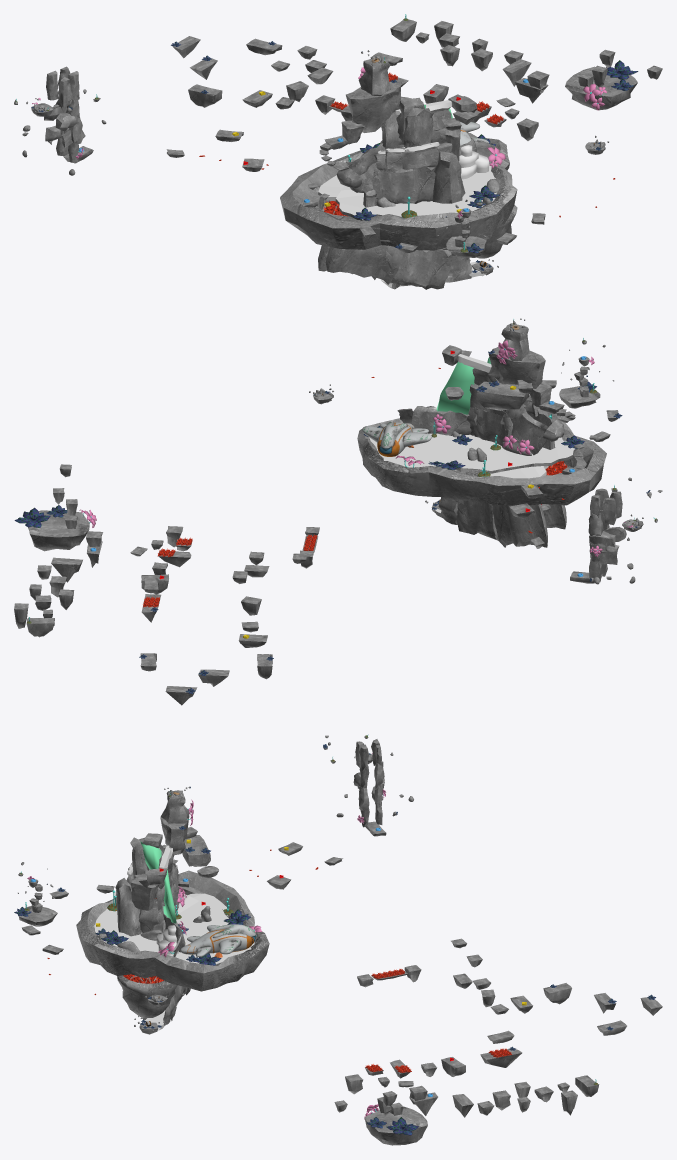
Rendered from FULLSCENEOMEGALUL.fbx.
3 views of the same model, one above another, from view 1: azimuth 30°, elevation 25°; view 2: azimuth 150°, elevation 25°; view 3: azimuth 270°, elevation 25° (orthographic). The views are drawn at different scales.
Visible parts, largest first — view 1: Circle.011, Circle, unityexport3.285, unityexport3.282, unityexport3.302, unityexport.164, unityexport.080, unityexport.054, unityexport.004, unityexport3.278, unityexport.165, Cylinder (+8 smaller); view 2: Circle.011, Circle, unityexport3.284, unityexport.054, Ship.001, unityexport.164, unityexport3.227, unityexport3.300, Plane, unityexport3.298, unityexport.157, unityexport3.280 (+2 smaller); view 3: Circle.011, Circle, Ship.001, Cylinder, unityexport.054, unityexport.080, unityexport.165, unityexport.164, unityexport.157, unityexport.029.
Part boxes in pixels (x1,y1,x2,y2): Circle.011: (280, 132, 517, 250); Circle: (336, 164, 496, 219); unityexport3.285: (325, 245, 403, 284); unityexport3.282: (390, 249, 452, 289); unityexport3.302: (373, 165, 435, 203); unityexport.164: (346, 81, 400, 132); unityexport.080: (432, 148, 465, 203); unityexport.054: (565, 66, 637, 110); unityexport.004: (401, 108, 433, 147); unityexport3.278: (385, 144, 439, 170); unityexport.165: (358, 57, 391, 96); Cylinder: (476, 205, 517, 258); Circle.011: (357, 412, 606, 505); Circle: (369, 433, 574, 470); unityexport3.284: (492, 504, 547, 547); unityexport.054: (28, 510, 89, 551); Ship.001: (362, 421, 431, 456); unityexport.164: (488, 348, 545, 393); unityexport3.227: (456, 499, 498, 540); unityexport3.300: (411, 406, 471, 435); Plane: (436, 361, 474, 414); unityexport3.298: (500, 406, 548, 455); unityexport.157: (476, 381, 529, 410); unityexport3.280: (473, 407, 514, 447); Circle.011: (76, 870, 269, 991); Circle: (94, 894, 254, 964); Ship.001: (180, 924, 255, 956); Cylinder: (117, 975, 177, 1017); unityexport.054: (364, 1106, 427, 1145); unityexport.080: (115, 878, 142, 936); unityexport.165: (160, 790, 189, 824); unityexport.164: (160, 817, 188, 855); unityexport.157: (182, 835, 210, 866); unityexport.029: (130, 880, 158, 910).
Size of the model in its own units: 27210 by 9625 by 26938.
